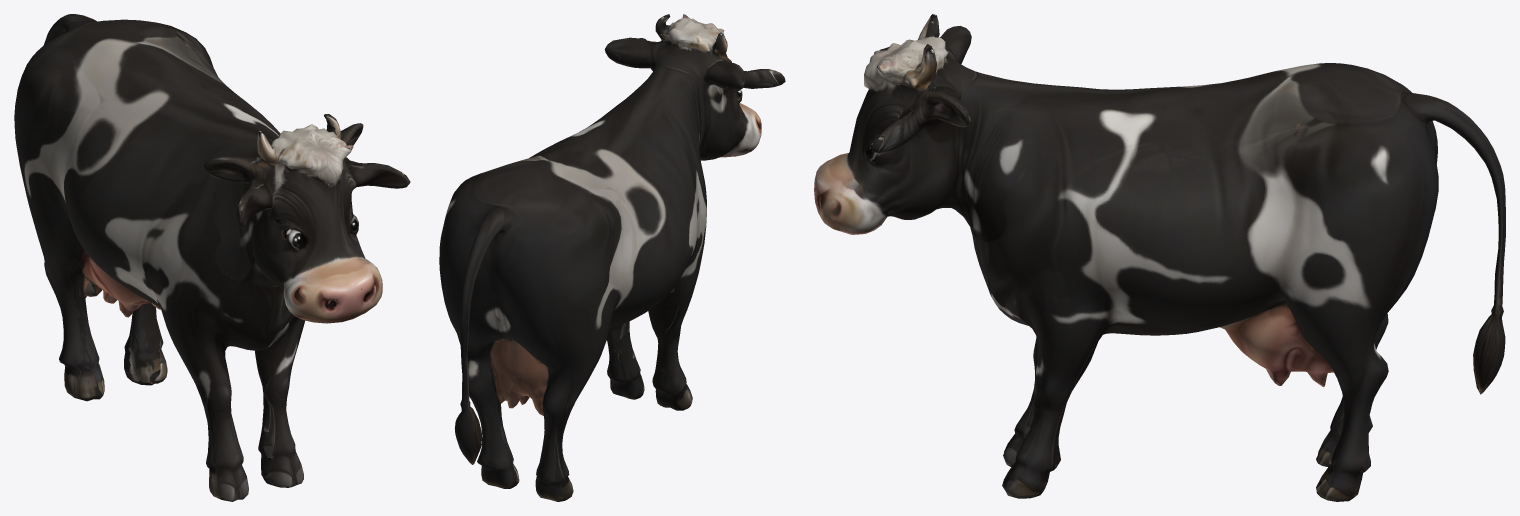
File: crow.glb
The picture shows the model from 3 angles, left to right: view 1: azimuth 30°, elevation 25°; view 2: azimuth 150°, elevation 25°; view 3: azimuth 270°, elevation 25°; orthographic projection. The views are drawn at different scales.
Bounding box in the file's own units: 24900 × 47119 × 65728.
1 material, 1 textured.
